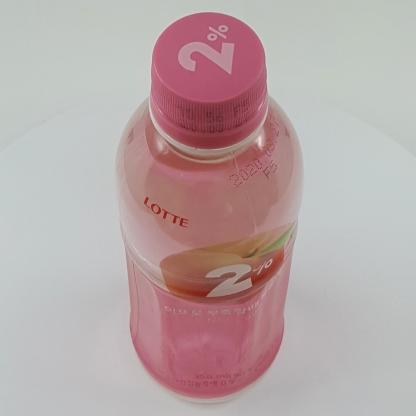--2_---350ML: (114, 12, 305, 404)
